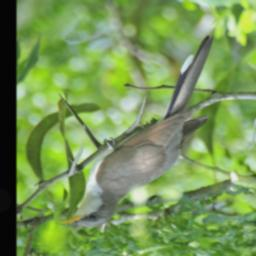Cuckoo: (58, 35, 214, 227)
